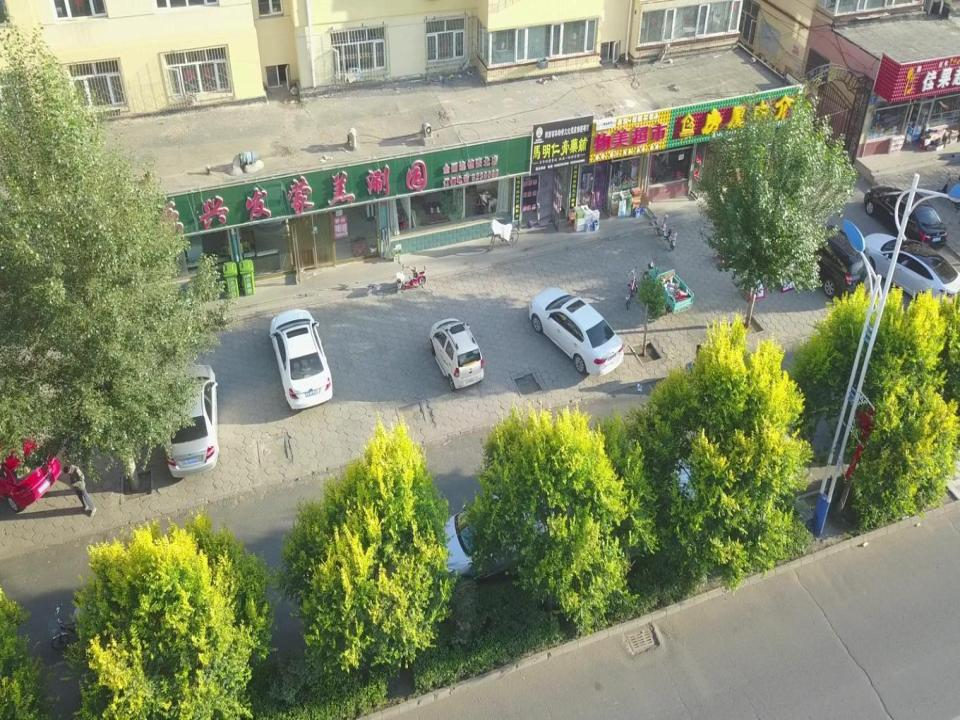car: (426, 498, 558, 589), (528, 286, 624, 377), (861, 230, 960, 314), (788, 217, 871, 301), (164, 363, 220, 478), (269, 309, 333, 409), (864, 184, 948, 252), (0, 435, 64, 513)
